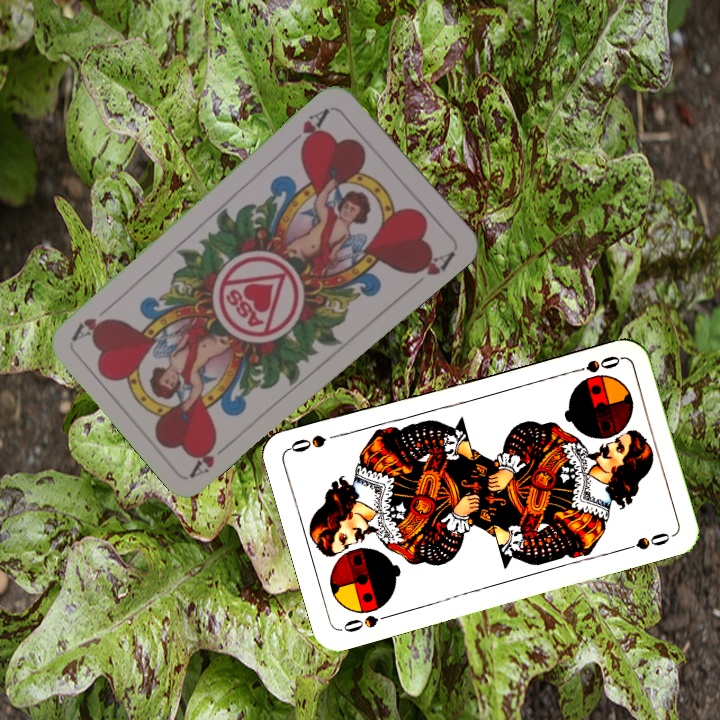HA: (286, 104, 335, 153), (187, 434, 237, 479)
SO: (337, 609, 395, 635), (565, 351, 624, 376)
